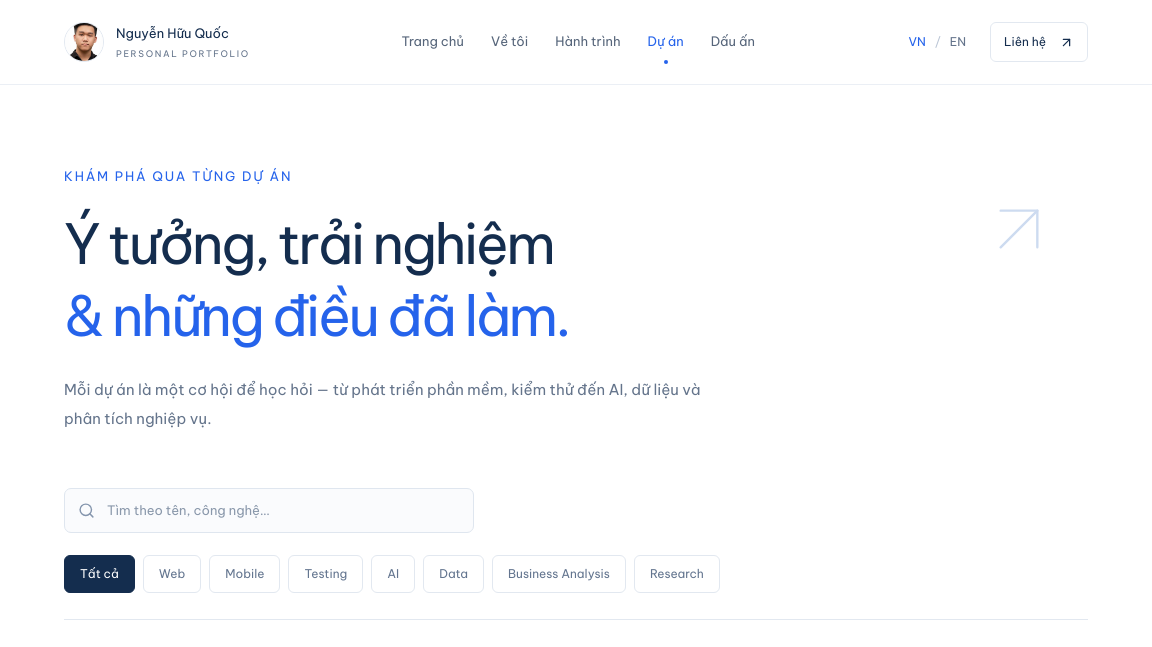
Test case: case study routes and content authenticity › opens a case study from its card and follows next-project navigation
What coordinates should you click on to do the following:
click the button named "English"
I would click on:
 (958, 42)
Its box is [948,22,968,62].
(page scrolled)
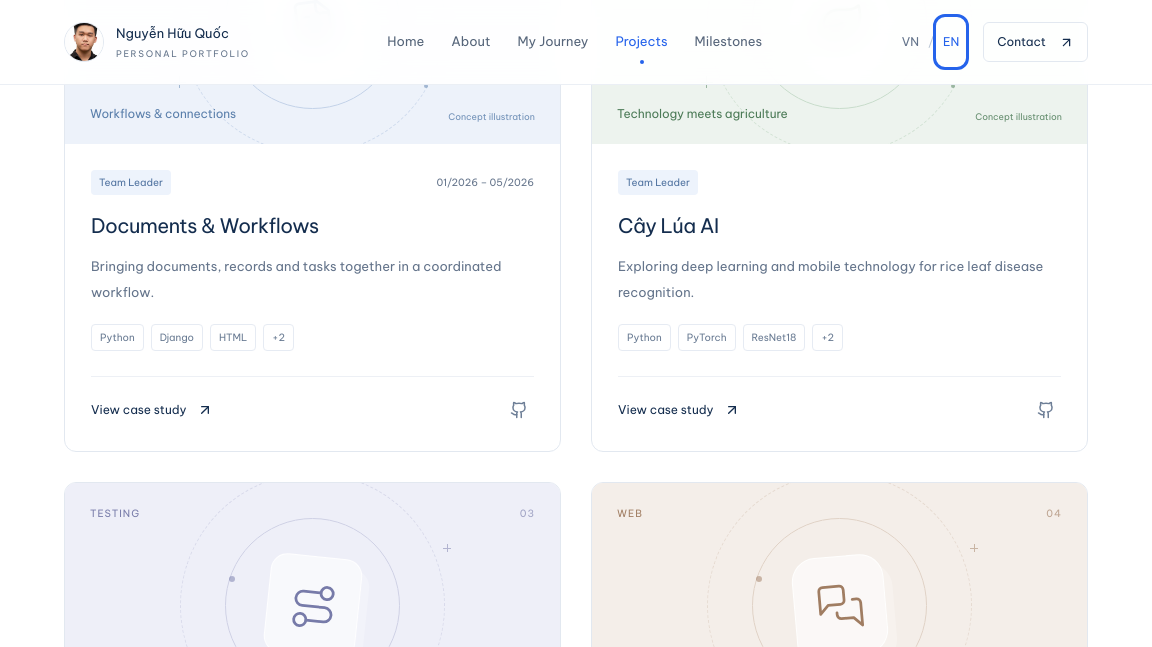
What coordinates should you click on to do the following:
click the link "View case study" below "Django"
I would click on:
 (152, 410)
Its box is [91,400,212,420].
(page scrolled)
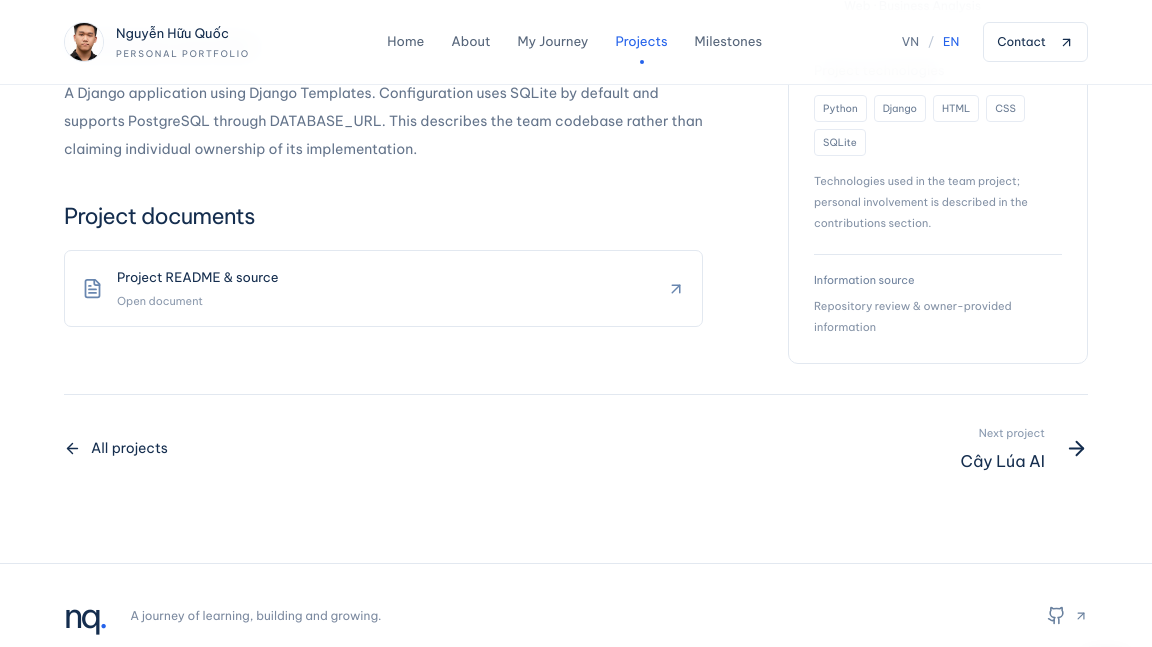
What coordinates should you click on to do the following:
click the link "Next project Cây Lúa AI"
I would click on:
 (1024, 449)
Its box is [961,425,1088,473].
(page scrolled)
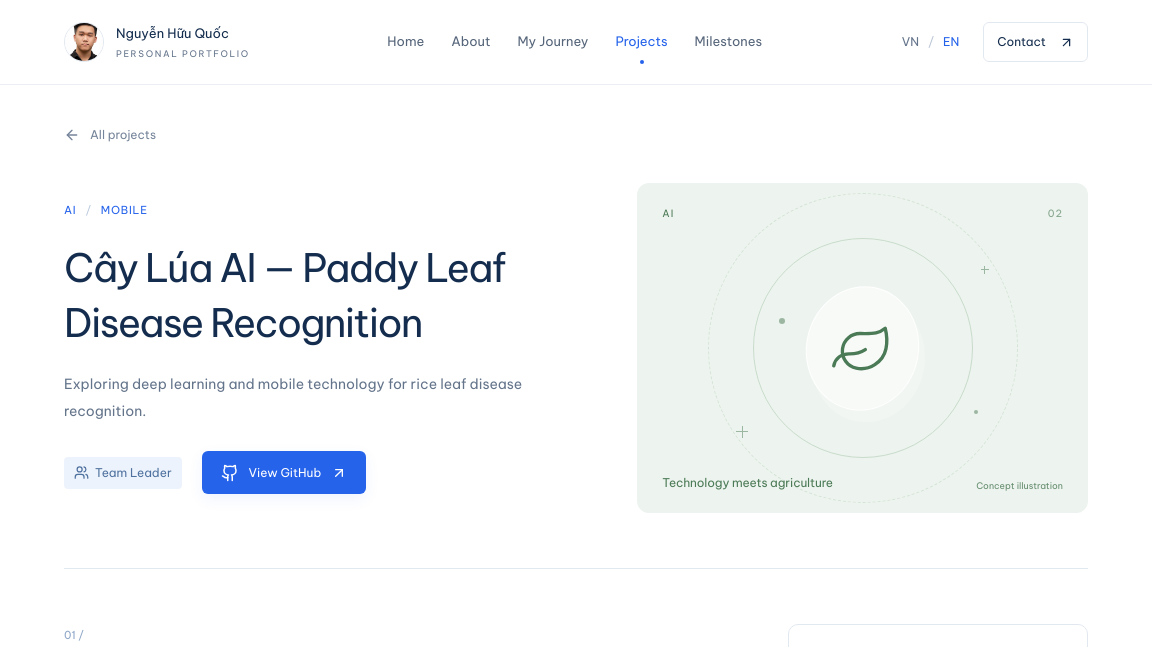
Check: the heading "Cây Lúa AI — Paddy Leaf Disease Recognition" is shown, box [64,241,582,351]
